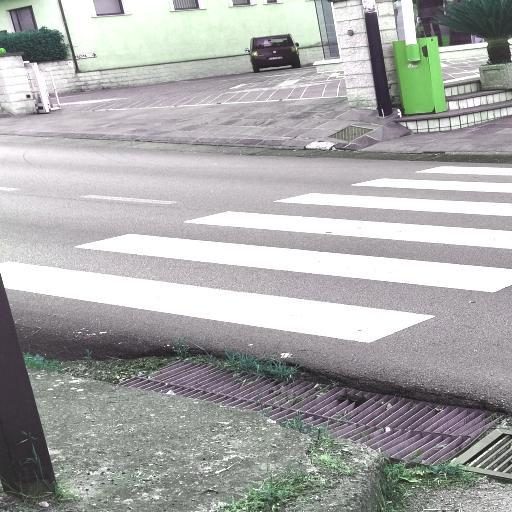crosswalk: (67, 207, 512, 301)
